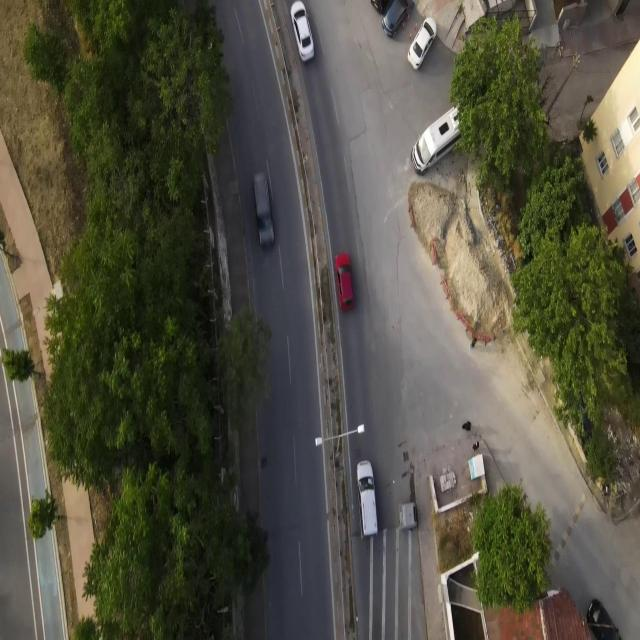p3rson: (462, 421, 472, 433), (471, 441, 480, 454)
